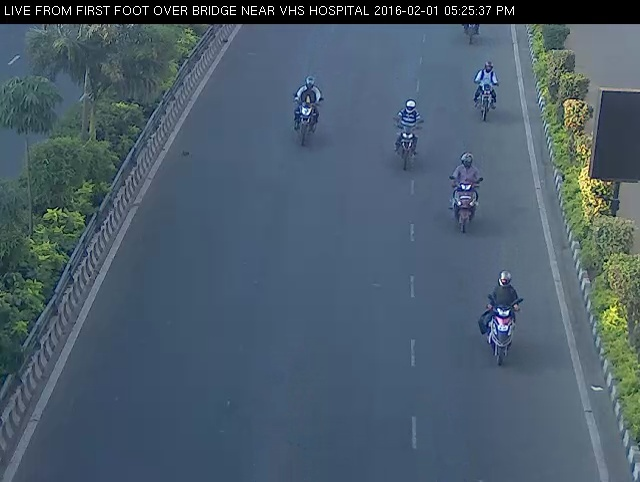Person: (471, 263, 535, 374), (435, 143, 494, 237), (280, 67, 335, 153), (382, 90, 431, 174), (470, 58, 505, 131), (453, 17, 485, 49)
